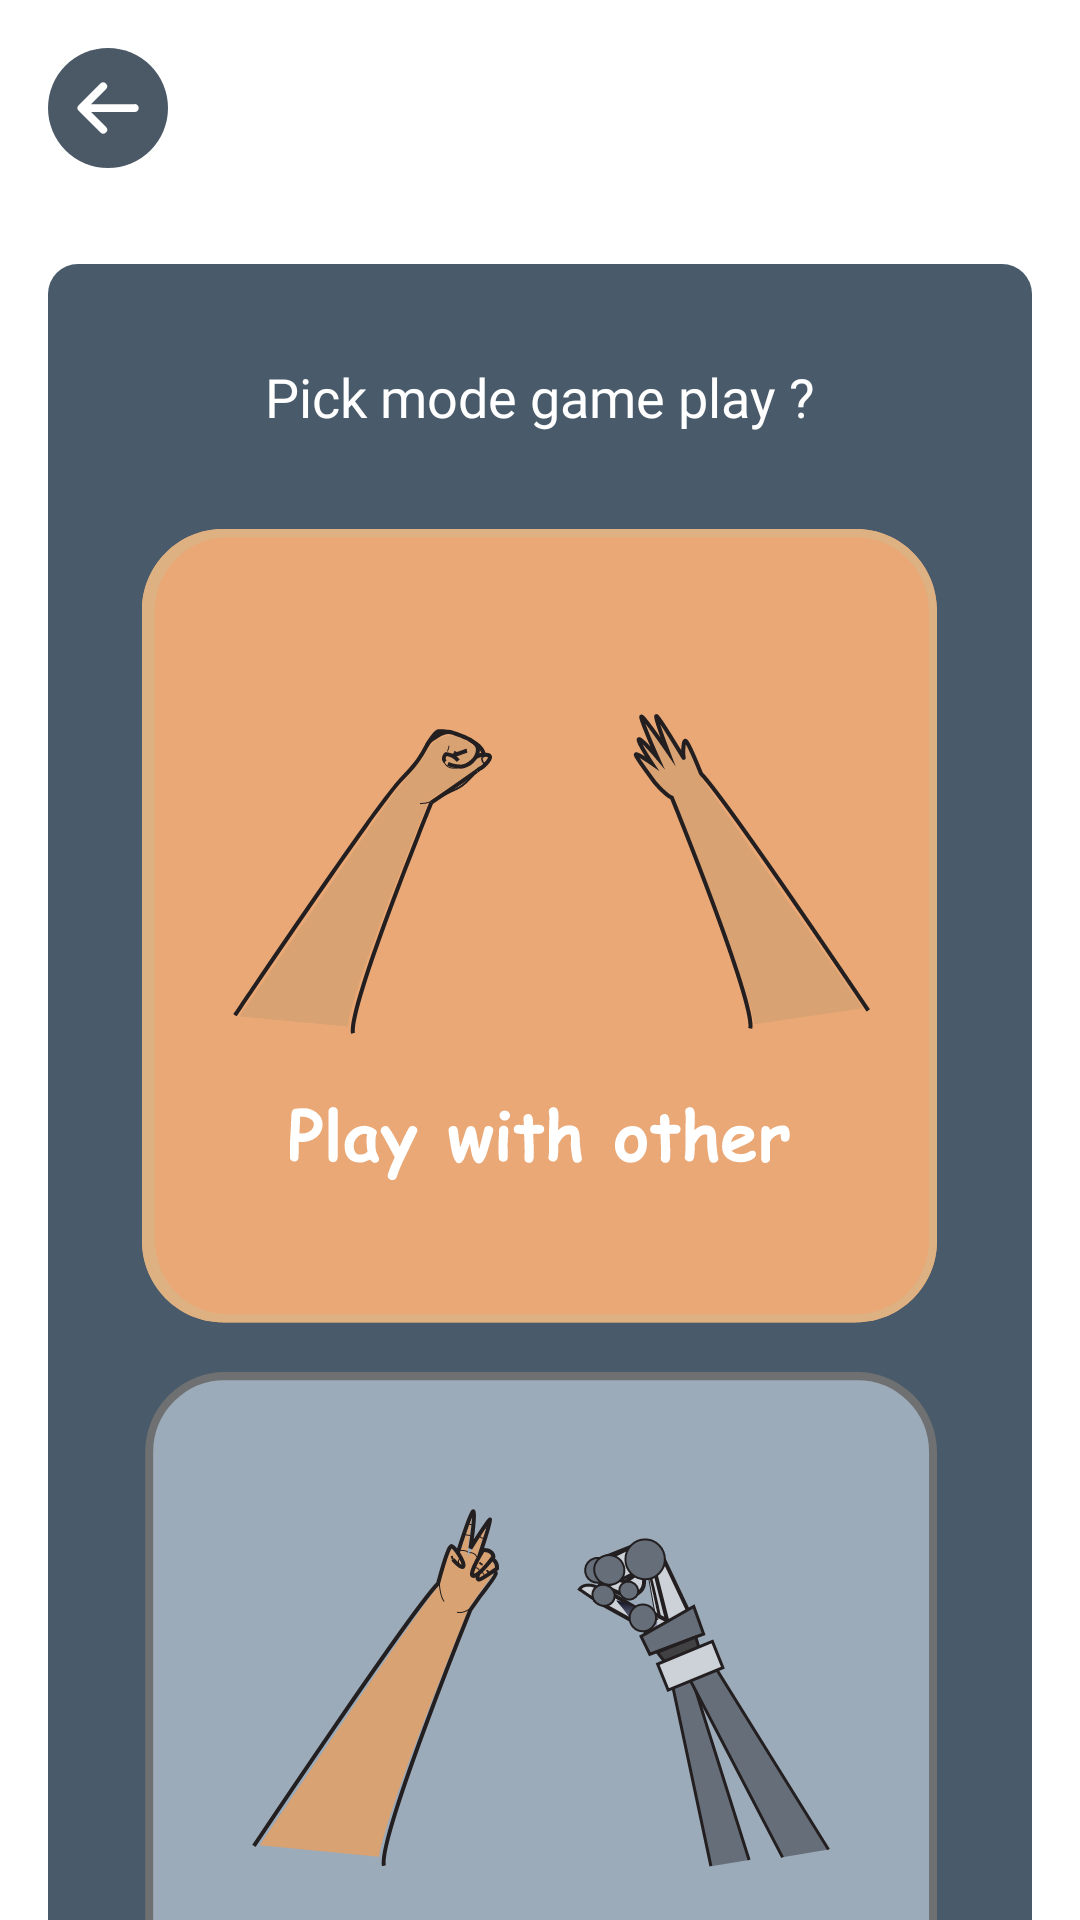

Icon click points for this 1080px x 1920px phone screenshot, format (x=x, y=y):
Kembali Ke Menu: (x=108, y=108)
